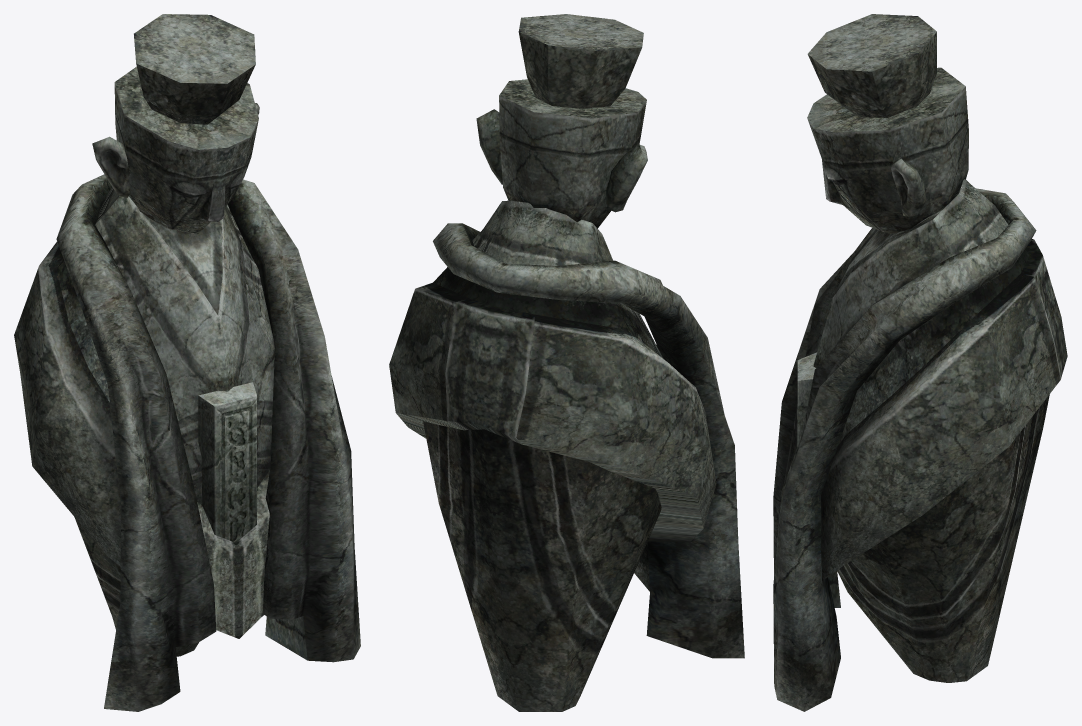
Rendered from settler_statue2.glb.
3 renders of one model, left to right at view 1: azimuth 30°, elevation 25°; view 2: azimuth 150°, elevation 25°; view 3: azimuth 270°, elevation 25°, orthographic. The views are drawn at different scales.
Visible parts, largest first — view 1: settler_statue2; view 2: settler_statue2; view 3: settler_statue2.
Part boxes in pixels (bbox=[...]): settler_statue2: bbox=[14, 14, 360, 711]; settler_statue2: bbox=[389, 14, 744, 711]; settler_statue2: bbox=[773, 14, 1067, 711].
Size of the model in its own units: 1.61 by 3.37 by 1.42.
Materials: 1 (1 with a texture image).
